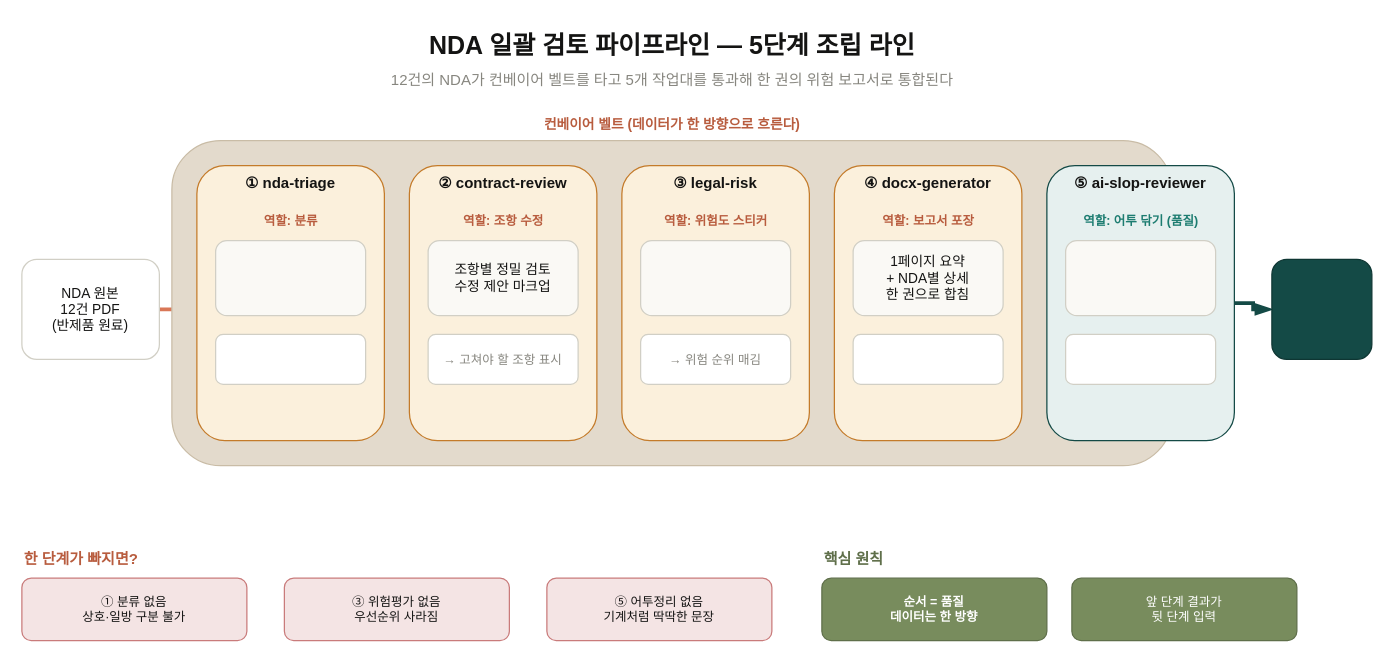
Some shapes in this 1394 by 663 pixel diagram are drawn without their labels. Each missing label, with the centre of its shape:
"→ 읽기 편한 문장" belongs at (x=1140, y=358).
"→ 종류별로 묶음" belongs at (x=290, y=358).
"→ 통합 보고서 1권" belongs at (x=927, y=358).
"기계적 어투 제거 사람이 쓴 듯 자연스럽게" belongs at (x=1140, y=277).
"상/중/하 평가 우선순위 부여" belongs at (x=715, y=277).
"상호/일방 기간·손배 캡 준거법 구분" belongs at (x=290, y=277).
"최종 위험 보고서 .docx (완성품)" belongs at (x=1321, y=308).
